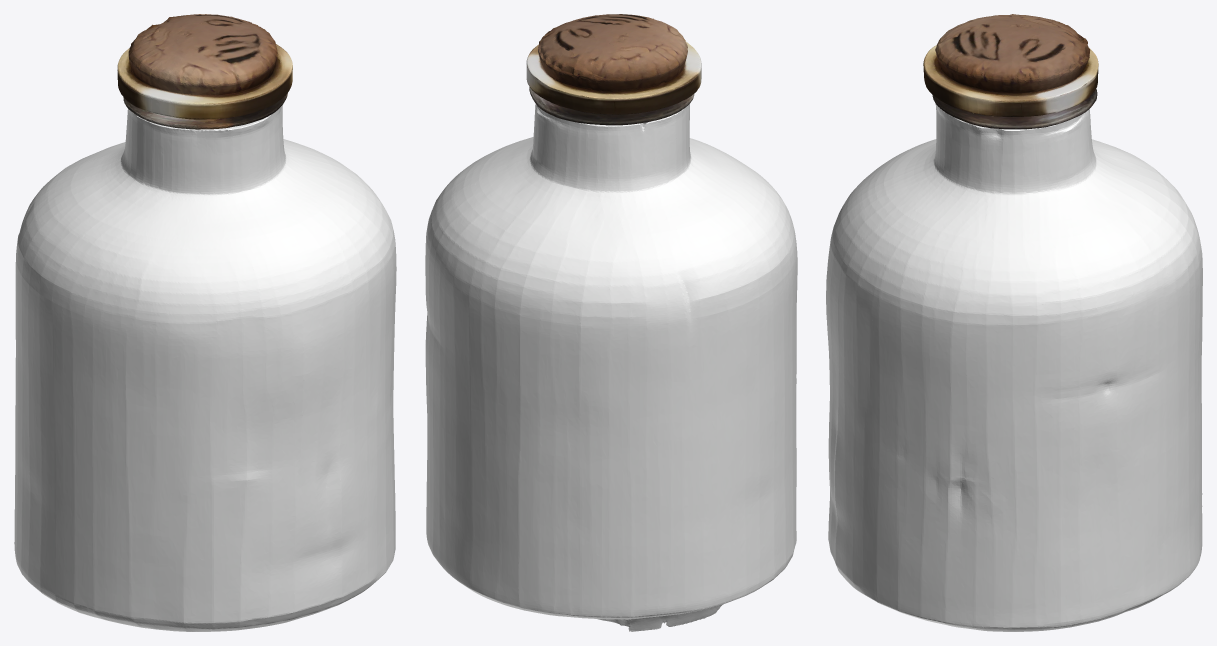
3 views of the same model, side by side, from view 1: azimuth 30°, elevation 25°; view 2: azimuth 150°, elevation 25°; view 3: azimuth 270°, elevation 25° (orthographic). The views are drawn at different scales.
Visible parts, largest first — view 1: 0, 1; view 2: 0, 1; view 3: 0, 1.
Part boxes in pixels (bbox=[...]): 0: bbox=[14, 105, 396, 631]; 1: bbox=[117, 14, 292, 129]; 0: bbox=[425, 104, 797, 631]; 1: bbox=[526, 14, 701, 125]; 0: bbox=[826, 103, 1202, 631]; 1: bbox=[923, 14, 1098, 129].
Bounding box in the file's own units: 0.6194 × 0.9766 × 0.6109.
3 materials, 2 textured.
